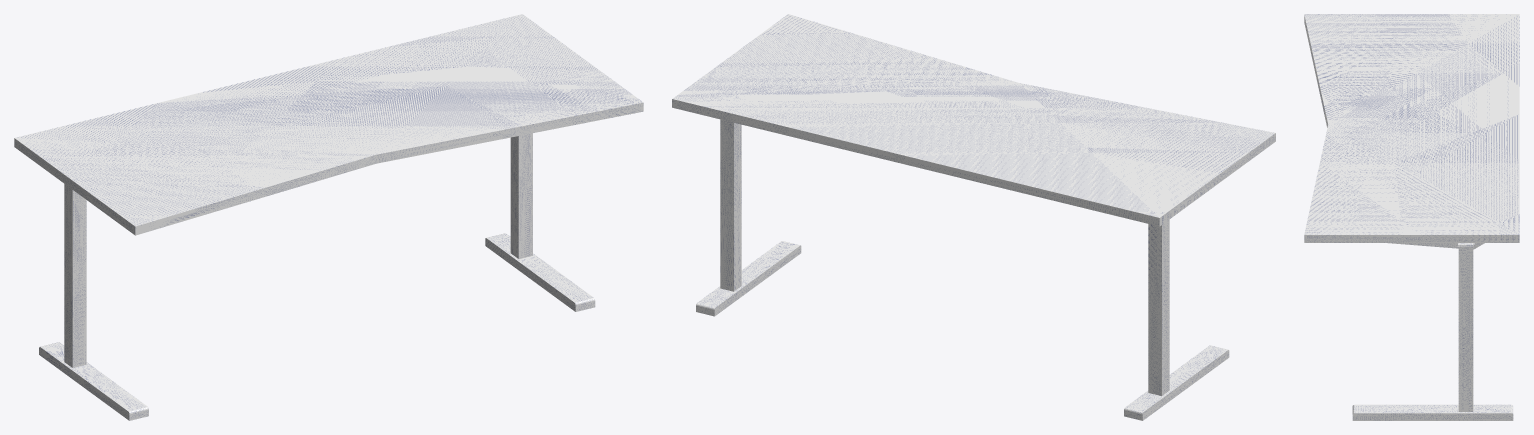
Rendered from desk.dae.
The picture shows the model from 3 angles, left to right: view 1: azimuth 30°, elevation 25°; view 2: azimuth 150°, elevation 25°; view 3: azimuth 270°, elevation 25°; orthographic projection. The views are drawn at different scales.
Parts seen in each view (by area): view 1: Component, Component1 (×4); view 2: Component, Component1 (×4); view 3: Component, Component1 (×3).
Boxes of the visible parts, x1,y1,x2,y2 form: Component: (14,14,643,235); Component1 (×4): (39,133,595,420); Component: (672,14,1275,226); Component1 (×4): (696,119,1229,420); Component: (1304,14,1519,242); Component1 (×3): (1352,243,1513,420).
Size of the model in its own units: 71.5 by 29.5 by 29.5.
